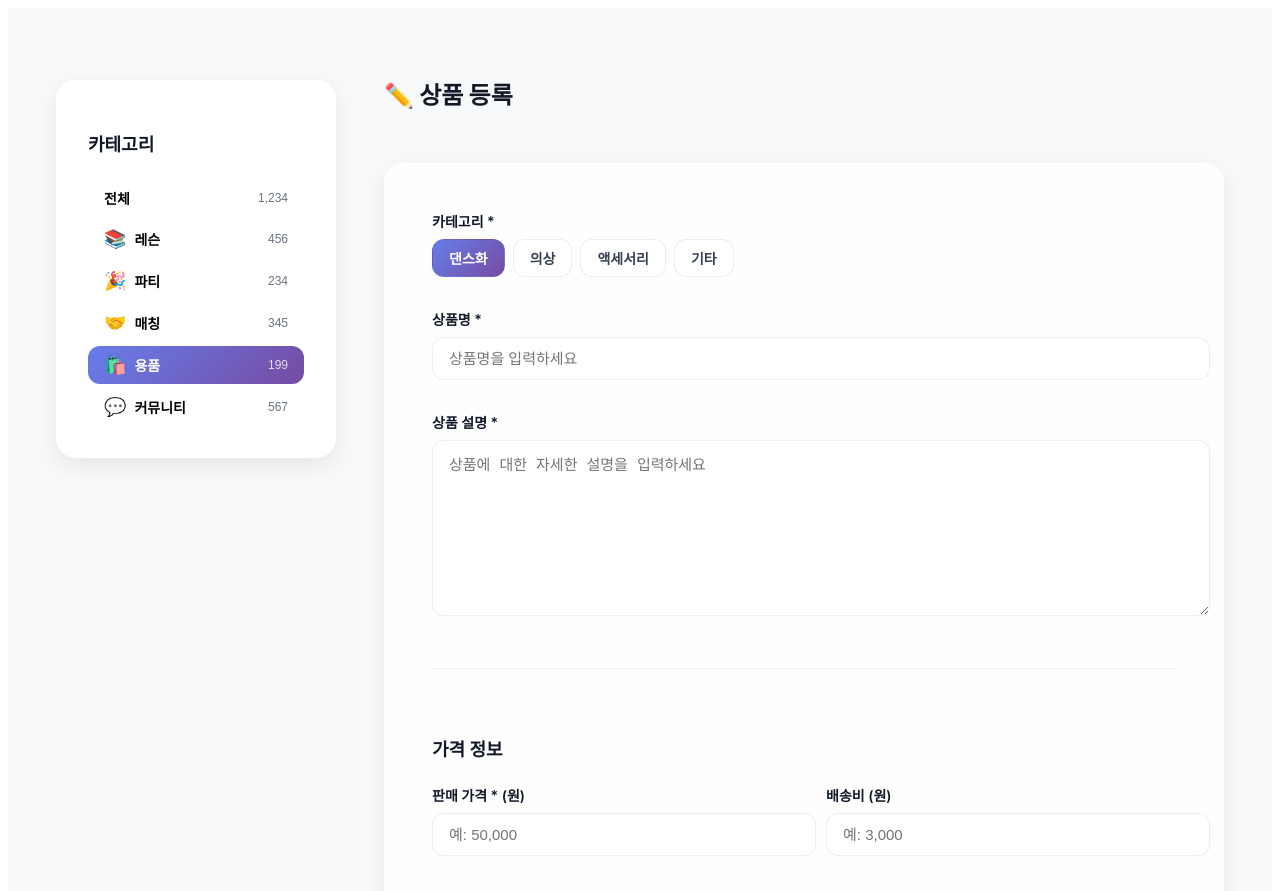
ProductForm 컴포넌트 › 가격 포맷팅 › 배송비 입력 시 쉼표 포맷팅이 적용되어야 함
Type "3000" into the field labelled "배송비 (원)".
click(1018, 834); type("3000")  # box [826,813,1210,856]
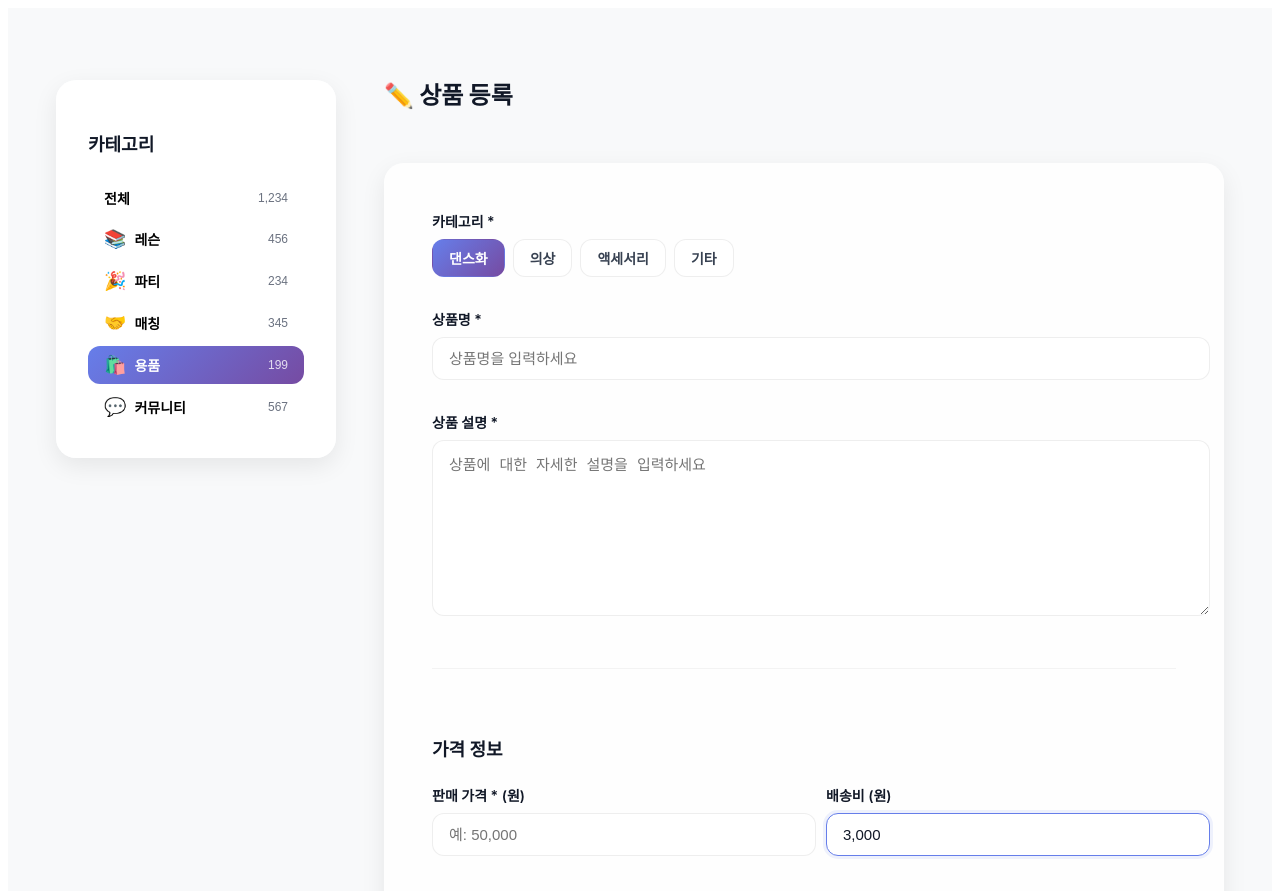
Result: the field labelled "배송비 (원)" holds "3,000" at [826,813,1210,856]
